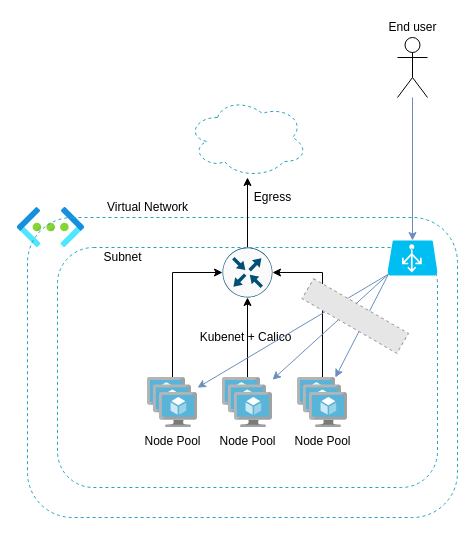
The diagram is 475 pixels wide and 535 high, and some of its shapes have lost their labels. Grey dashed boxes stand in for pictures. The box of each missing label's shape, as (x1, y1, x2, y2) in pixels:
Azure LB: (387, 240, 437, 275)
Internet: (186, 96, 308, 178)
